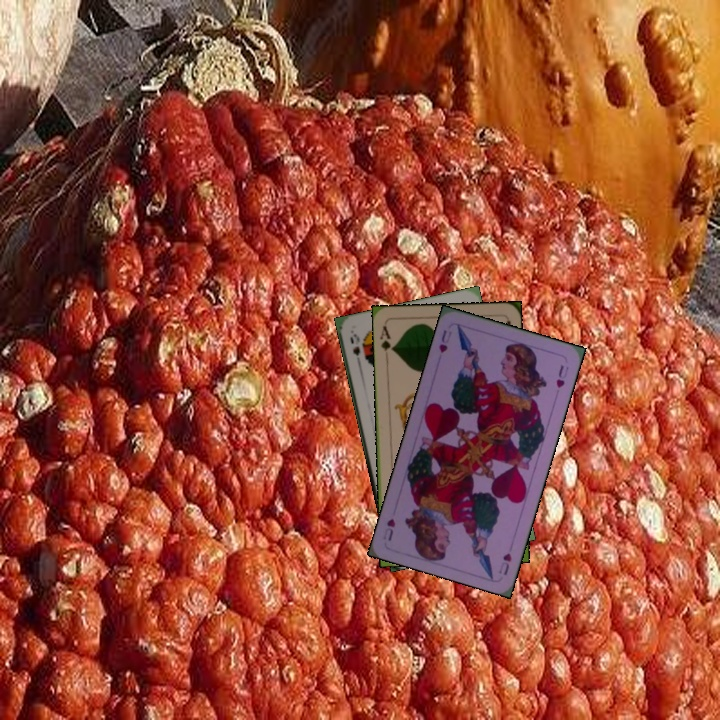GA: (376, 322, 396, 361)
HU: (435, 326, 454, 356), (495, 549, 514, 578)
SO: (346, 330, 363, 358)
